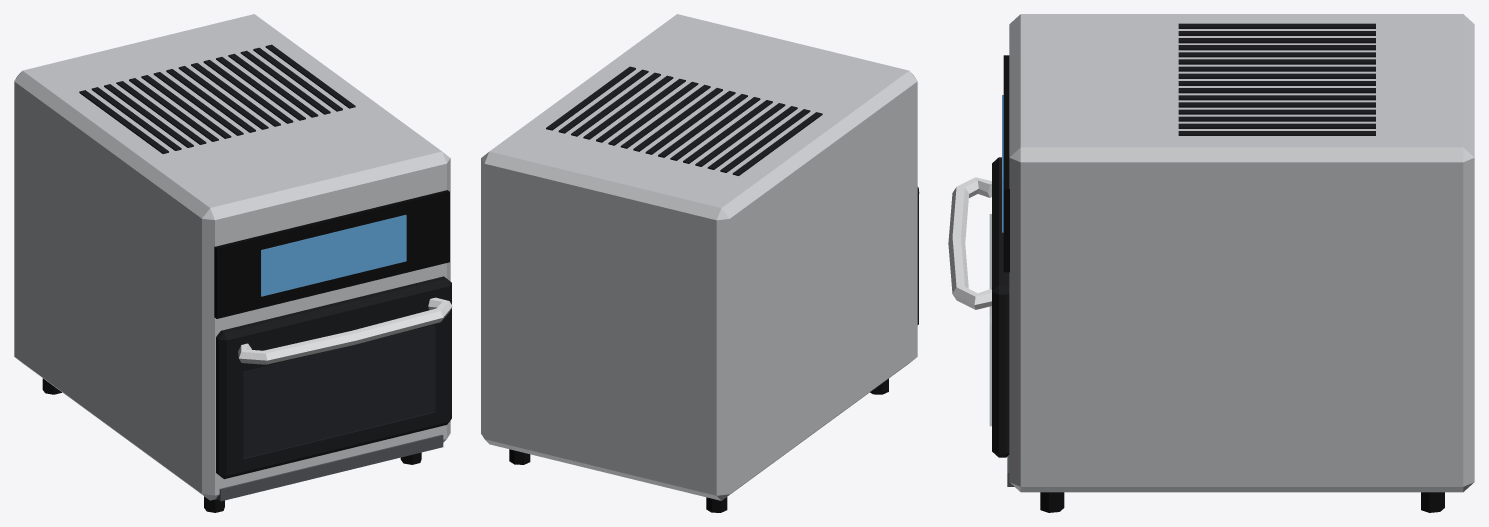
Rendered from speed_oven.glb.
3 renders of one model, left to right at view 1: azimuth 30°, elevation 25°; view 2: azimuth 150°, elevation 25°; view 3: azimuth 270°, elevation 25°, orthographic. The views are drawn at different scales.
Visible parts, largest first — view 1: speed; view 2: speed; view 3: speed.
Boxes of the visible parts, x1,y1,x2,y2 form: speed: (14,14,452,512); speed: (481,14,919,512); speed: (948,14,1474,512).
Size of the model in its own units: 0.48 by 0.5825 by 0.7466.
